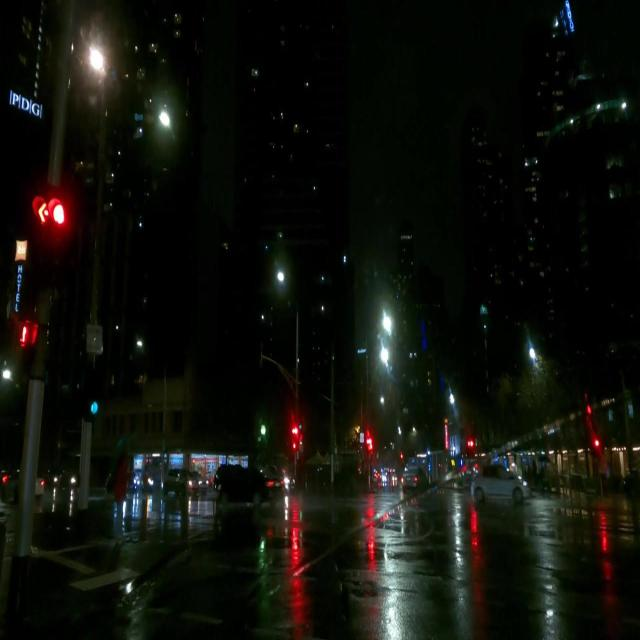Car: (468, 465, 527, 507)
